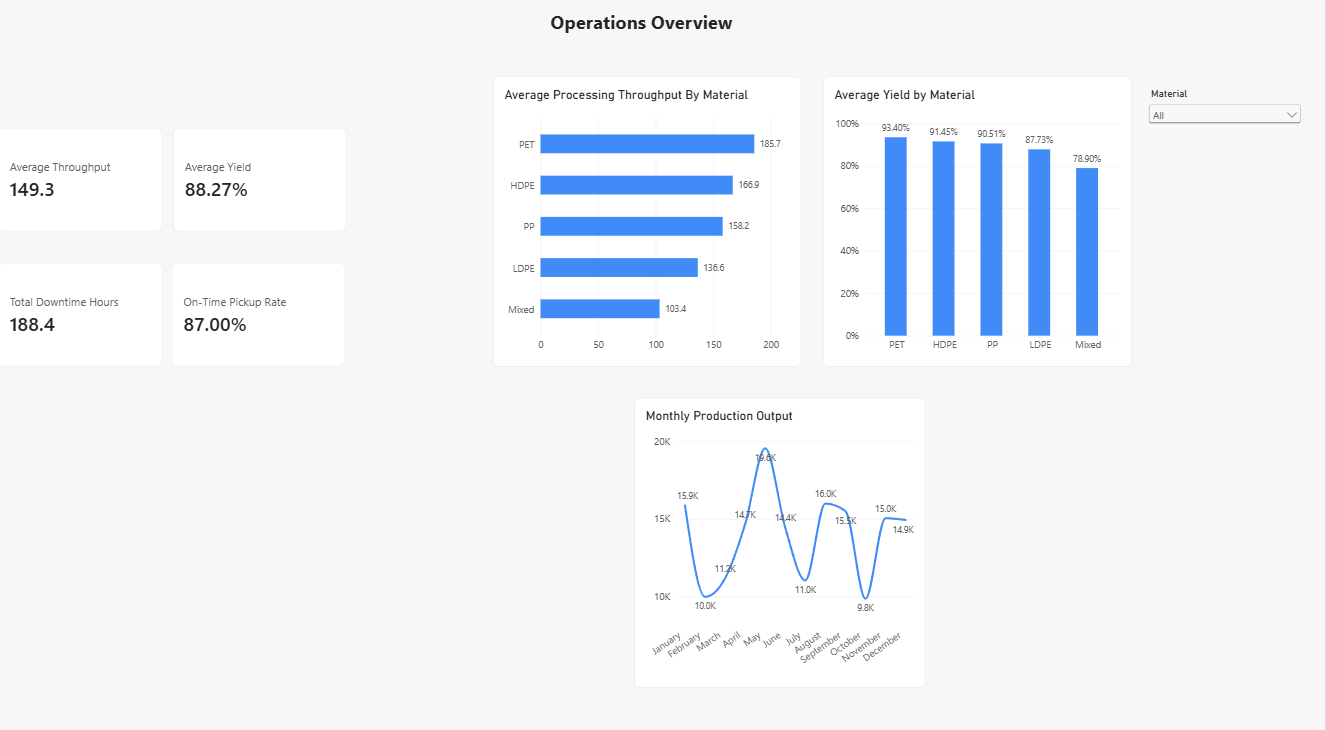

The page's visual inventory and layout, read from the dashboard file:
{"tool":"powerbi","page":{"name":"Page 1","canvas":[1920,1080],"ordinal":0},"visuals":[{"type":"clusteredBarChart","title":"Average Processing Throughput By Material","fields":{"Category":["processing_batches.Material"],"Y":["processing_batches.Average Throughput"]},"box":[716.6,119.4,446.4,420.2],"z":1001},{"type":"clusteredColumnChart","title":"Average Yield by Material","fields":{"Category":["processing_batches.Material"],"Y":["processing_batches.Average Yield"]},"box":[1194.4,119.4,446,420],"z":1002},{"type":"lineChart","title":"Monthly Production Output","fields":{"Category":["processing_batches.Batch_Date.Variation.Date Hierarchy.Month"],"Y":["processing_batches.Total Output KG"]},"box":[921.1,584.5,421.6,420.2],"z":1003},{"type":"slicer","fields":{"Values":["processing_batches.Material"]},"box":[1661.3,135.7,229.8,448.8],"z":1004},{"type":"cardVisual","fields":{"Data":["processing_batches.Average Throughput"]},"box":[0,193.6,238.9,150.2],"z":1005},{"type":"cardVisual","fields":{"Data":["processing_batches.Average Yield"]},"box":[253.4,193.6,251.5,150.2],"z":1006},{"type":"cardVisual","fields":{"Data":["downtime_events.Total Downtime Hours"]},"box":[0,389.1,238.9,150.2],"z":1007},{"type":"cardVisual","fields":{"Data":["pickups.On-Time Pickup Rate"]},"box":[251.5,389.1,251.5,150.2],"z":1008},{"type":"textbox","box":[799.9,21.7,276.9,41.6],"z":1009}]}

Visuals, with their boxes in screenshot pixels (x1, y1, x2, y2), scaled from the page's 1920x1080 canvas onto the 1326x730 screenshot:
"Average Processing Throughput By Material" clusteredBarChart: (495, 81, 803, 365)
"Average Yield by Material" clusteredColumnChart: (825, 81, 1133, 365)
"Monthly Production Output" lineChart: (636, 395, 927, 679)
slicer - processing_batches.Material: (1147, 92, 1306, 395)
cardVisual - processing_batches.Average Throughput: (0, 131, 165, 232)
cardVisual - processing_batches.Average Yield: (175, 131, 349, 232)
cardVisual - downtime_events.Total Downtime Hours: (0, 263, 165, 365)
cardVisual - pickups.On-Time Pickup Rate: (174, 263, 347, 365)
textbox: (552, 15, 744, 43)
